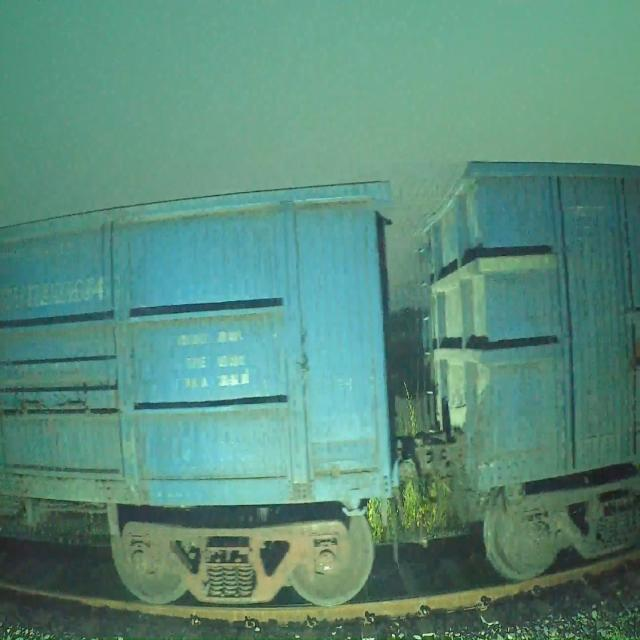WAgon-uic: (0, 174, 400, 606), (421, 162, 640, 582)
uic: (0, 266, 107, 312)
